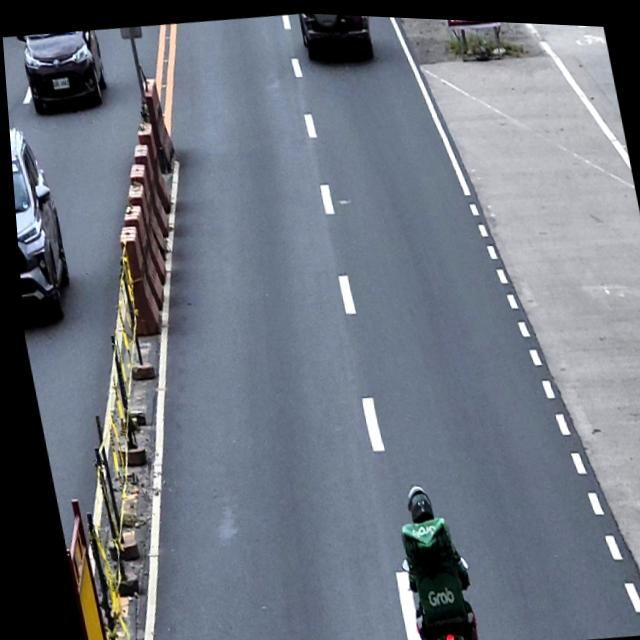Car: (7, 117, 71, 318), (14, 26, 111, 117), (297, 10, 376, 62)
License-Plate: (49, 74, 70, 91)
Motorcycle: (388, 543, 476, 640)
